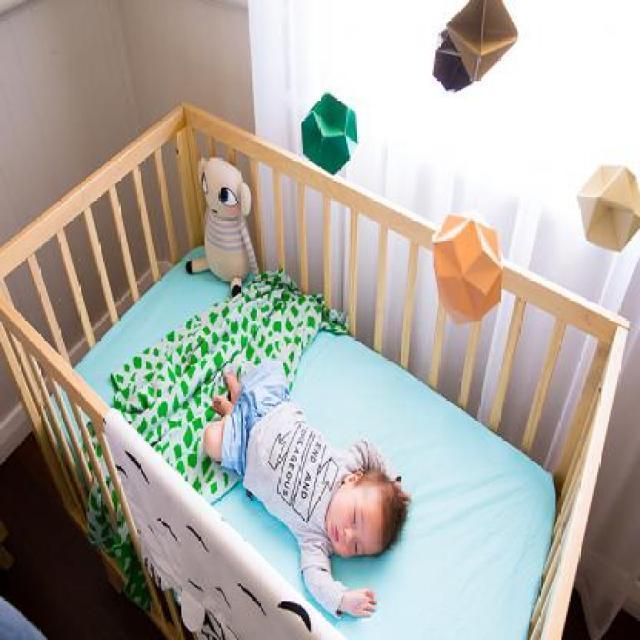child: (203, 359, 409, 619)
